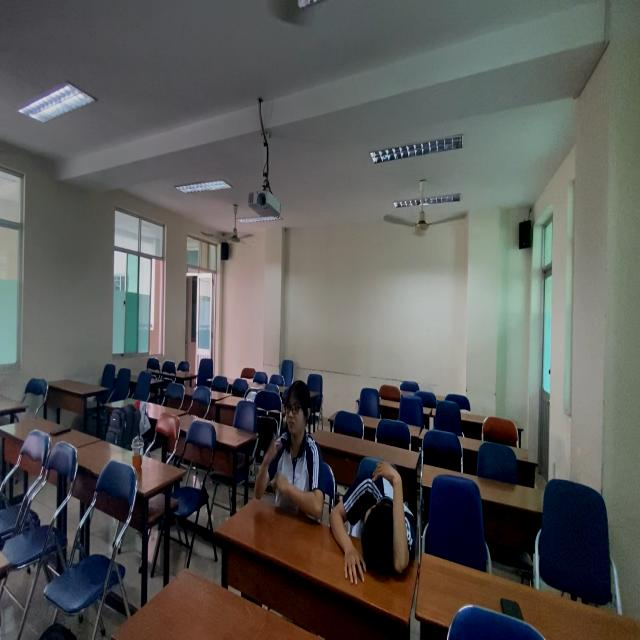sleep: (329, 453, 435, 598)
